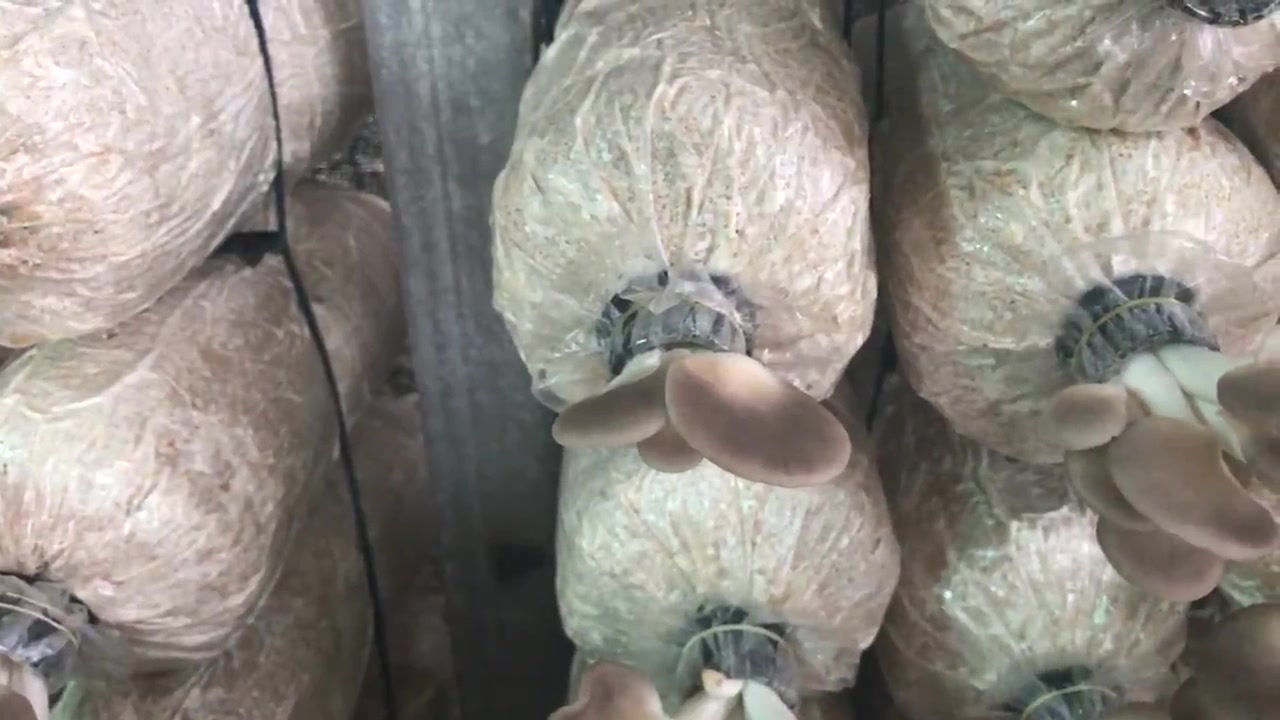nam: (1038, 271, 1280, 602), (552, 288, 856, 493)
